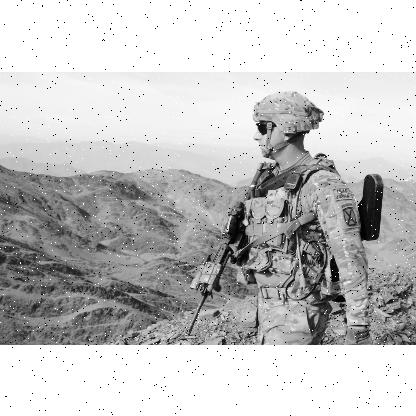gun: (186, 206, 266, 326)
